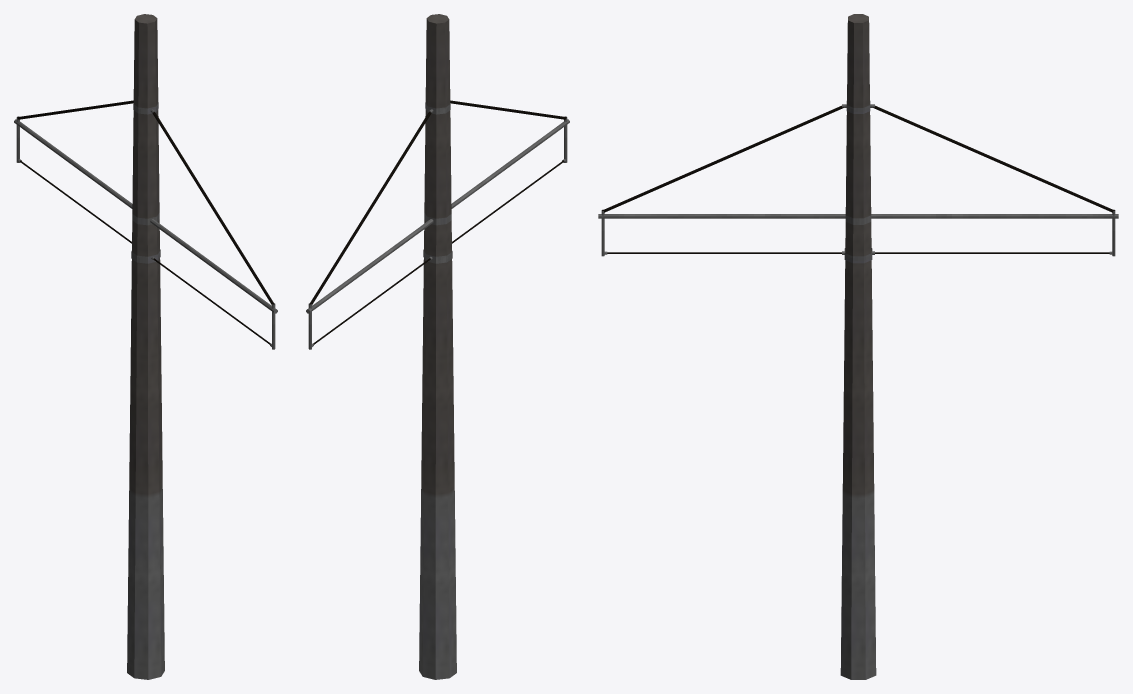
Rendered from pole_s.obj.
3 views of the same model, side by side, from view 1: azimuth 30°, elevation 25°; view 2: azimuth 150°, elevation 25°; view 3: azimuth 270°, elevation 25° (orthographic).
Parts seen in each view (by area): view 1: RAIL_BASE; view 2: RAIL_BASE; view 3: RAIL_BASE.
Boxes of the visible parts, x1,y1,x2,y2 form: RAIL_BASE: (14,14,277,679); RAIL_BASE: (306,14,569,679); RAIL_BASE: (598,14,1118,679).
Bounding box in the file's own units: 0.4642 × 9.47 × 6.83.
2 materials, 2 textured.
